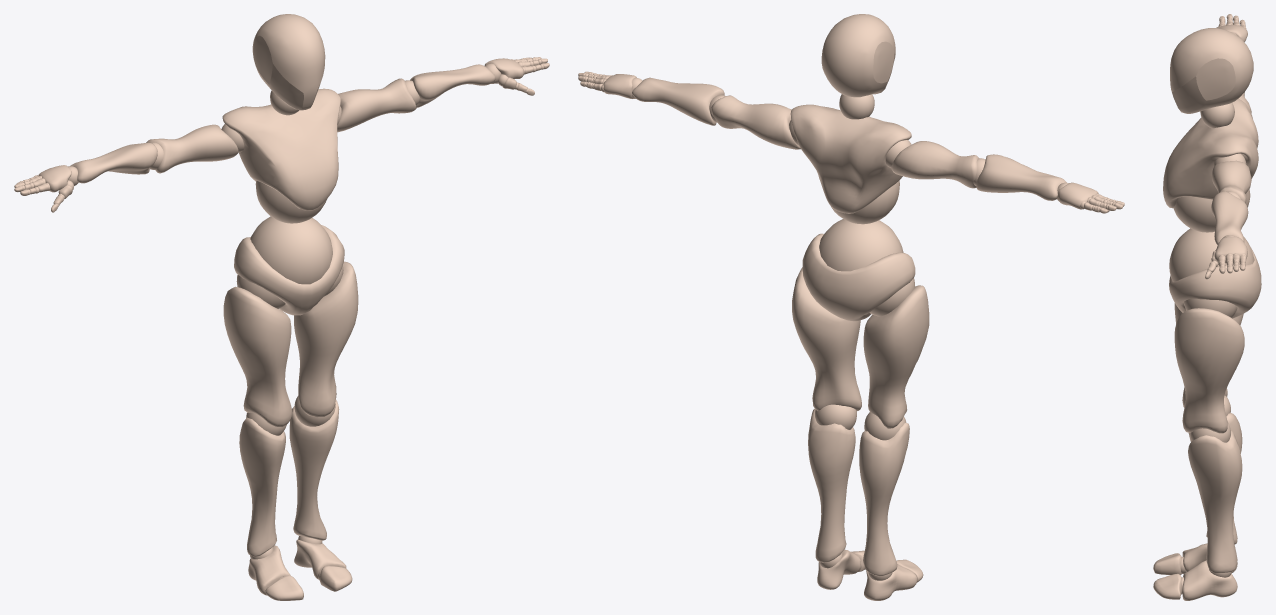
The picture shows the model from 3 angles, left to right: view 1: azimuth 30°, elevation 25°; view 2: azimuth 150°, elevation 25°; view 3: azimuth 270°, elevation 25°; orthographic projection. The views are drawn at different scales.
Visible parts, largest first — view 1: Beta_Surface, Beta_Joints; view 2: Beta_Surface, Beta_Joints; view 3: Beta_Surface, Beta_Joints.
Boxes of the visible parts, x1,y1,x2,y2 form: Beta_Surface: [14, 14, 549, 600]; Beta_Joints: [21, 57, 543, 579]; Beta_Surface: [578, 14, 1124, 600]; Beta_Joints: [584, 72, 1117, 580]; Beta_Surface: [1153, 14, 1261, 600]; Beta_Joints: [1169, 16, 1254, 594].
Size of the model in its own units: 0.0181 by 0.0181 by 0.00321.
